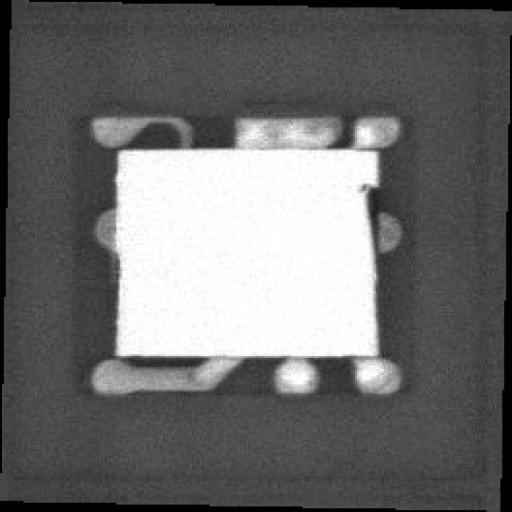DIE_BROKEN: (355, 178, 374, 251)
